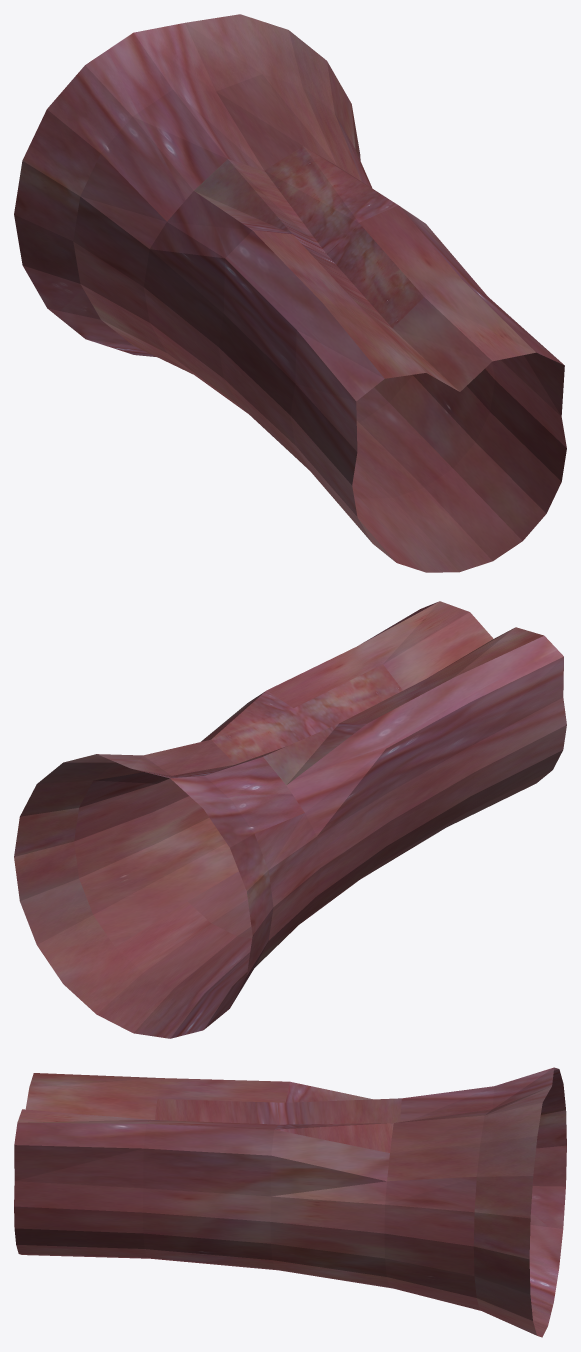
Rendered from palais.obj.
3 views of the same model, one above another, from view 1: azimuth 30°, elevation 25°; view 2: azimuth 150°, elevation 25°; view 3: azimuth 270°, elevation 25° (orthographic). The views are drawn at different scales.
Bounding box in the file's own units: 369 × 337 × 701.
